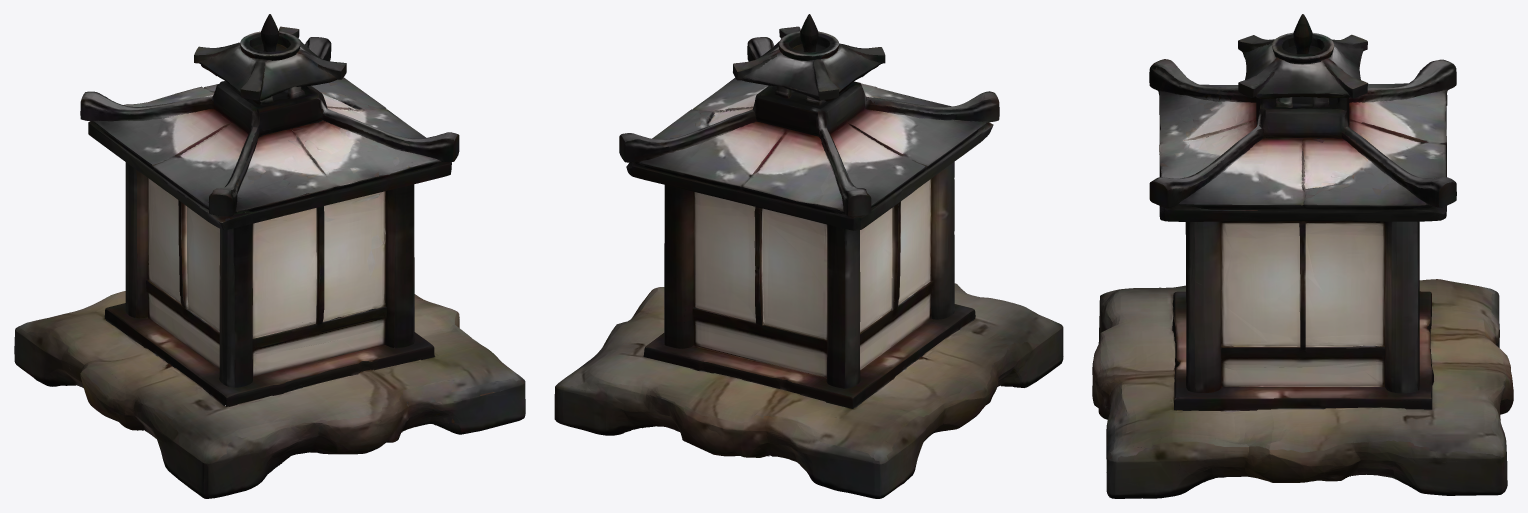
The model's file is prop_amatsu_lantern.fbx.
3 views of the same model, side by side, from view 1: azimuth 30°, elevation 25°; view 2: azimuth 150°, elevation 25°; view 3: azimuth 270°, elevation 25° (orthographic). The views are drawn at different scales.
Visible parts, largest first — view 1: geometry_0; view 2: geometry_0; view 3: geometry_0.
Part boxes in pixels (box(x1,y1,x2,y2)): geometry_0: box(14, 14, 525, 498); geometry_0: box(554, 14, 1063, 498); geometry_0: box(1092, 14, 1513, 498).
Size of the model in its own units: 0.9595 by 0.9995 by 0.951.
